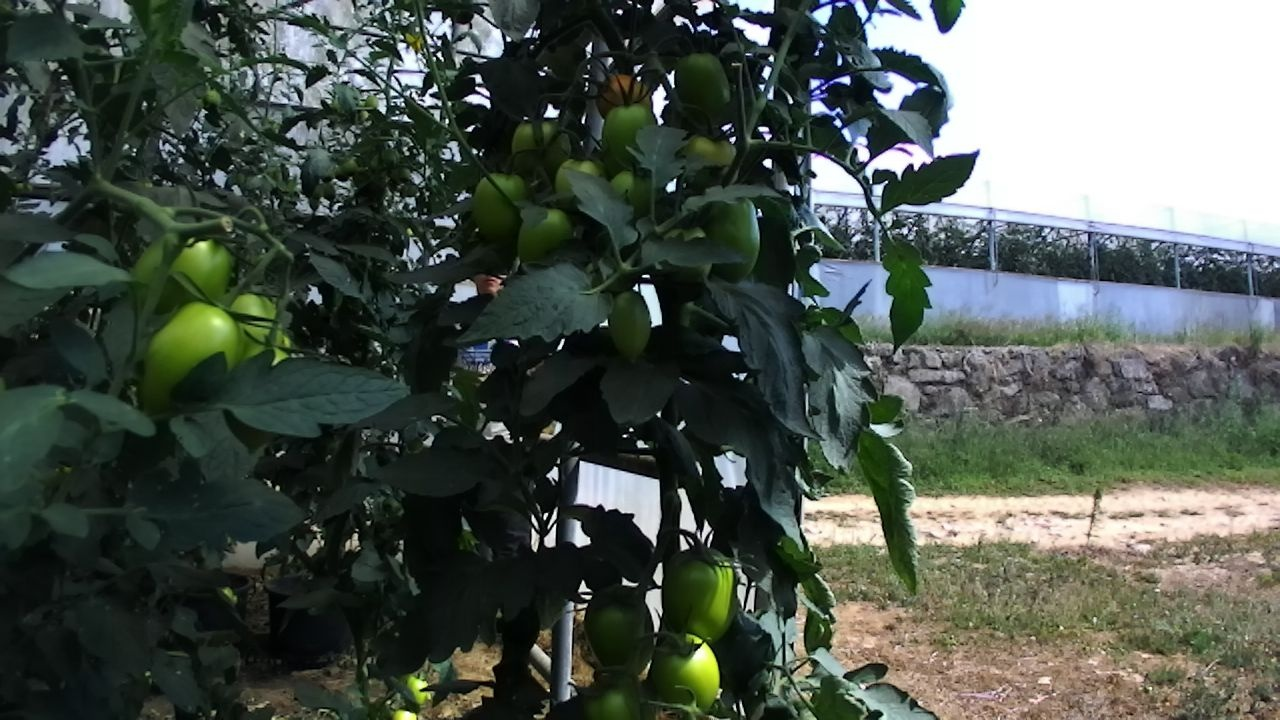tomato: (108, 203, 257, 354), (118, 289, 266, 423), (646, 523, 756, 662), (573, 574, 674, 689), (689, 171, 778, 300), (632, 612, 736, 720), (212, 270, 303, 378), (660, 37, 746, 134), (464, 159, 547, 249), (594, 90, 673, 179), (671, 118, 753, 202), (598, 276, 664, 373), (504, 104, 580, 187), (561, 658, 661, 720), (510, 195, 581, 277), (543, 147, 619, 222), (587, 64, 665, 132), (394, 666, 437, 711), (198, 83, 226, 113), (336, 153, 362, 179), (316, 178, 340, 204), (362, 91, 384, 114)
